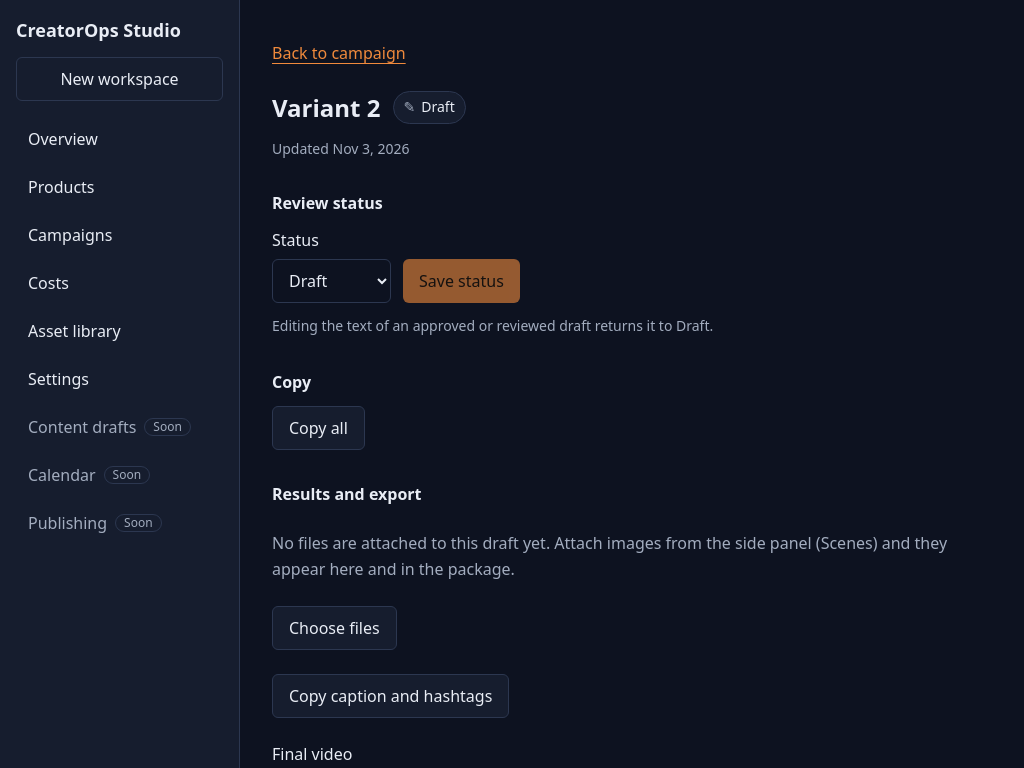
Test: DraftResults: caption › says so when the browser refuses the copy
Click the button "Copy caption and hashtags".
click(391, 696)  # box [272,674,509,718]
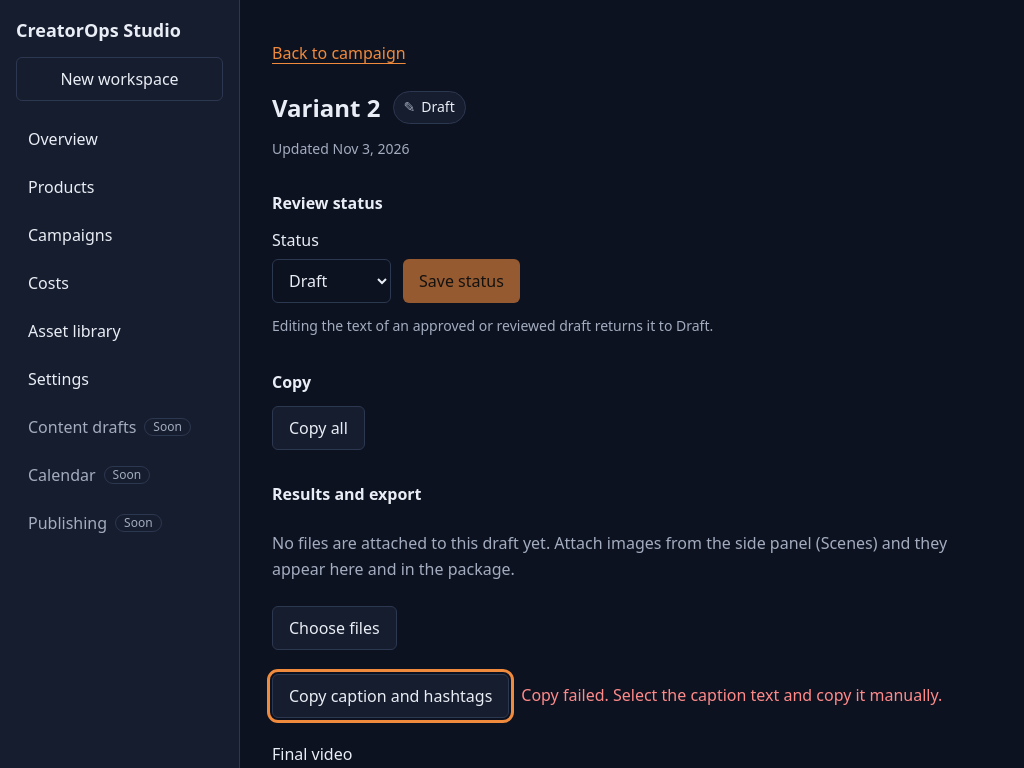
expect the text "Copy failed. Select the caption text and copy it manually." is shown: met, box [521,683,942,709]
